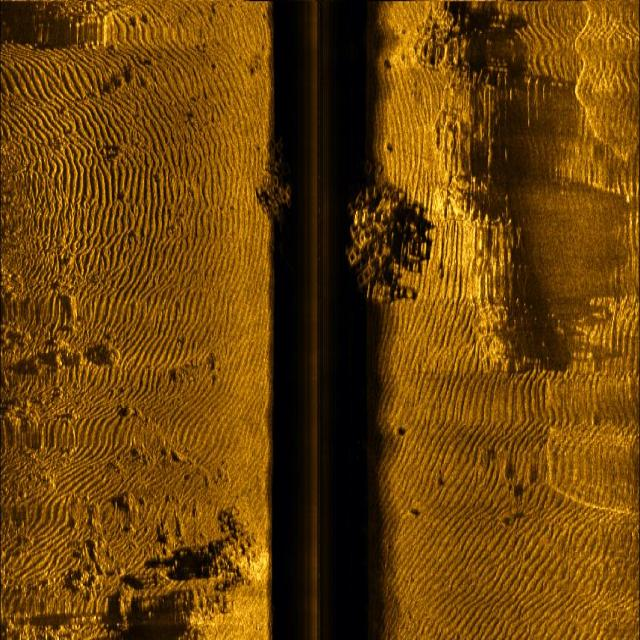artificial reef: (333, 140, 418, 309), (248, 138, 305, 252)
